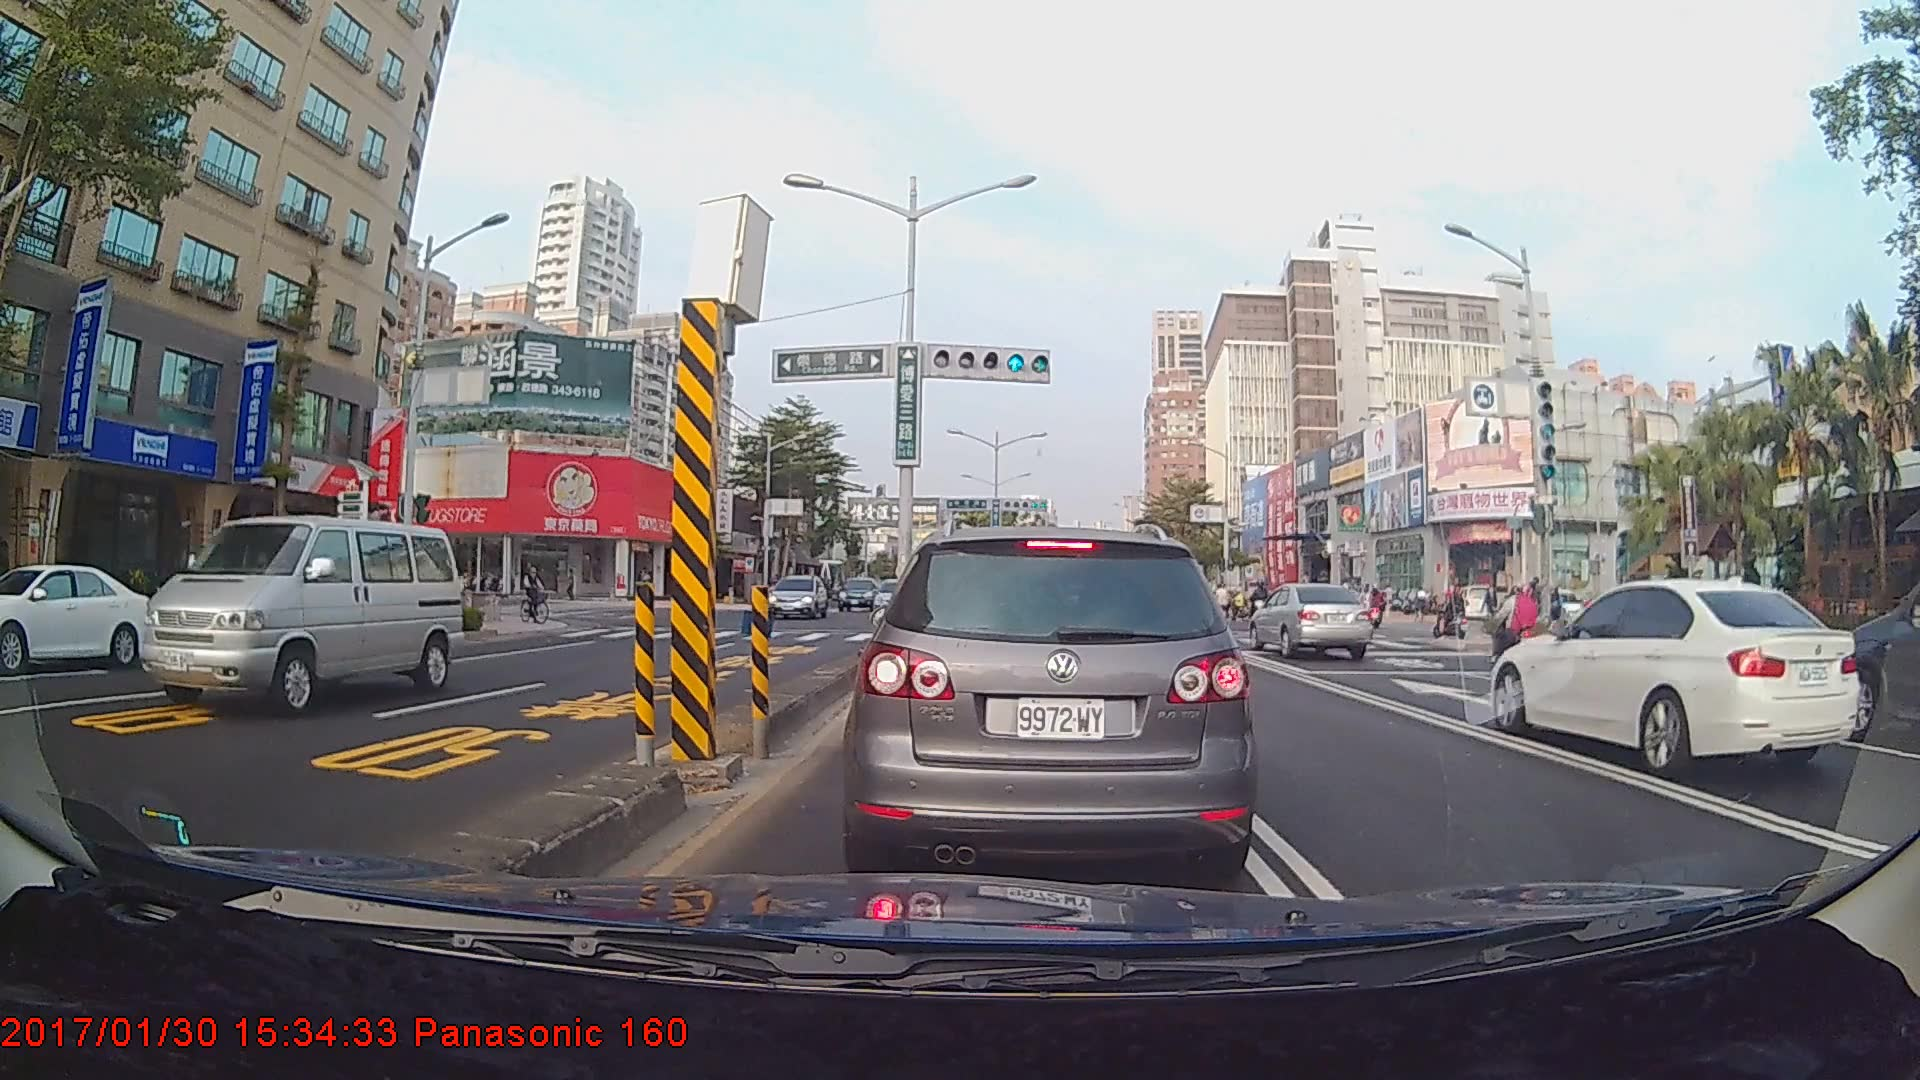rider: (1485, 582, 1548, 668), (518, 559, 561, 629), (1436, 582, 1473, 646)
vehicle: (859, 525, 1244, 875), (1486, 576, 1858, 780), (136, 513, 463, 716), (1816, 552, 1919, 741), (0, 561, 157, 671), (1246, 582, 1374, 658), (764, 574, 827, 619)
